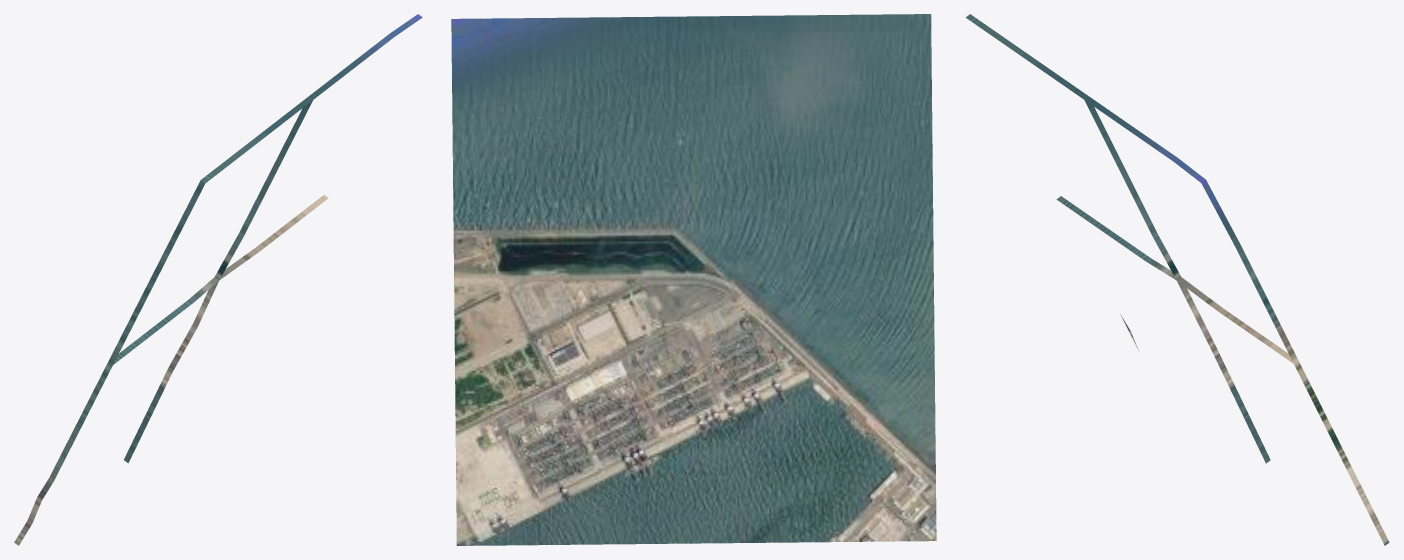
3 views of the same model, side by side, from view 1: azimuth 30°, elevation 25°; view 2: azimuth 150°, elevation 25°; view 3: azimuth 270°, elevation 25° (orthographic). The views are drawn at different scales.
Size of the model in its own units: 2455 by 2217 by 2062.
Materials: 1 (1 with a texture image).
